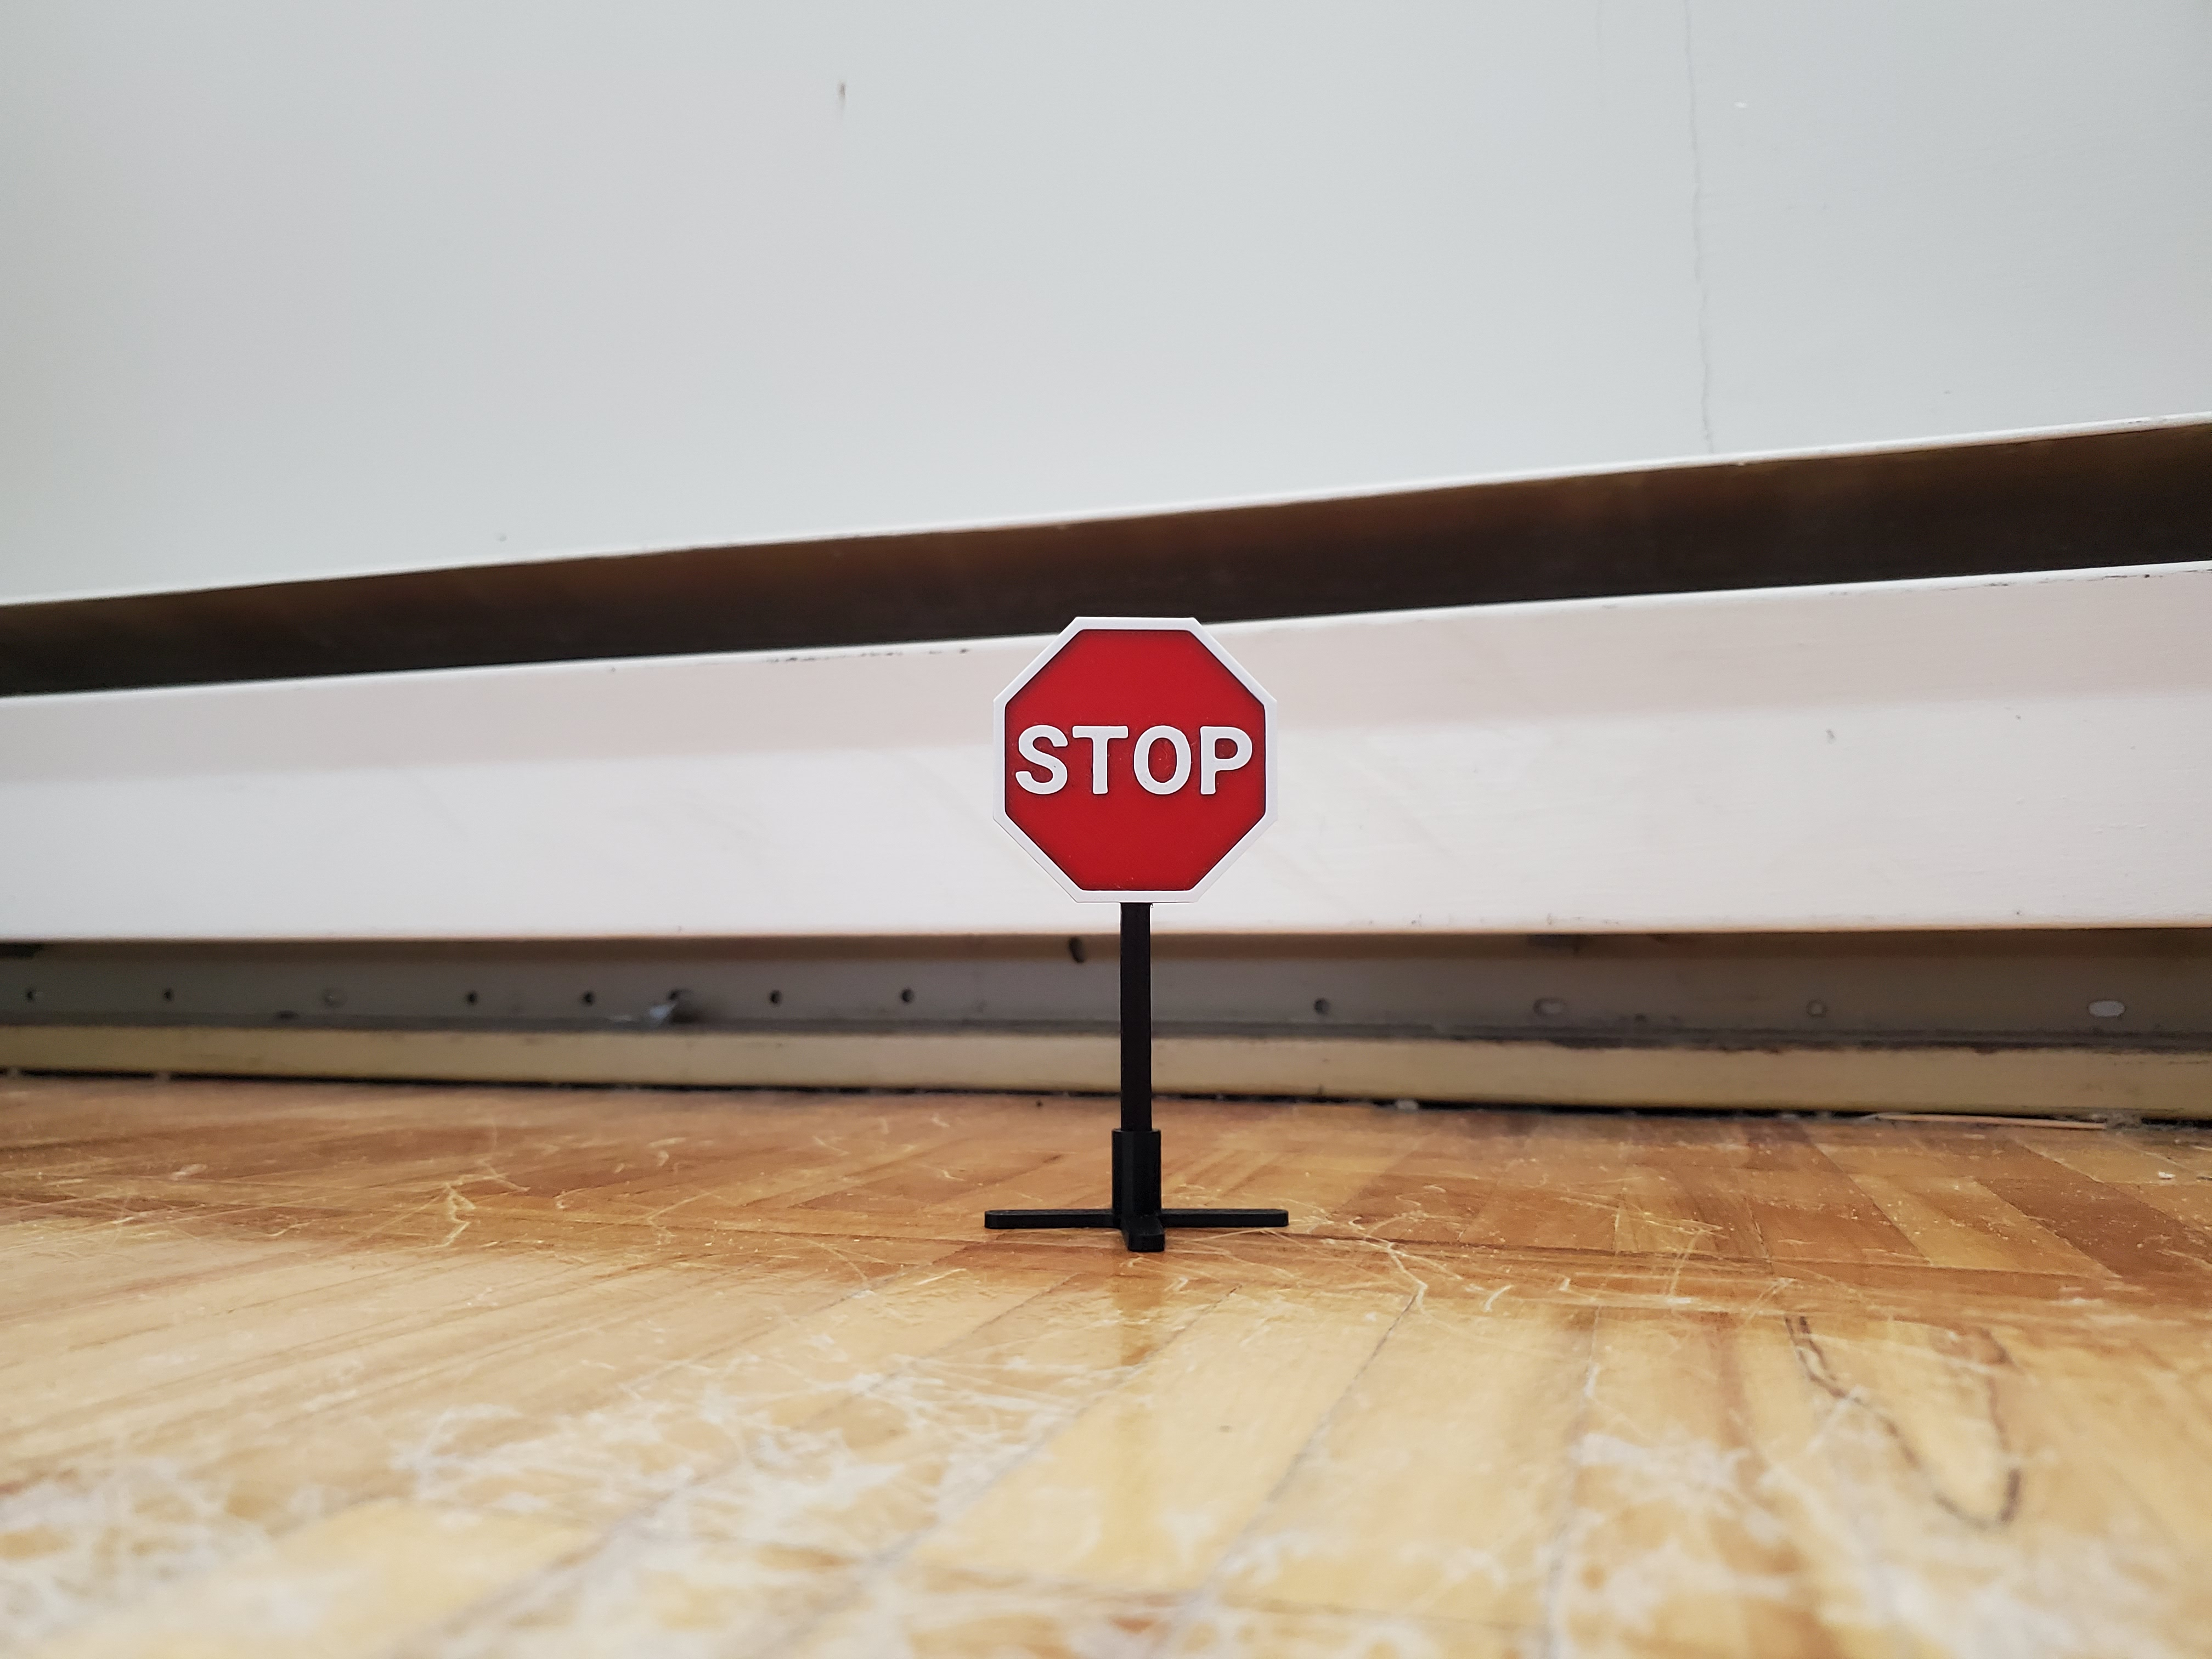sign_stop: (923, 582, 1353, 1307)
